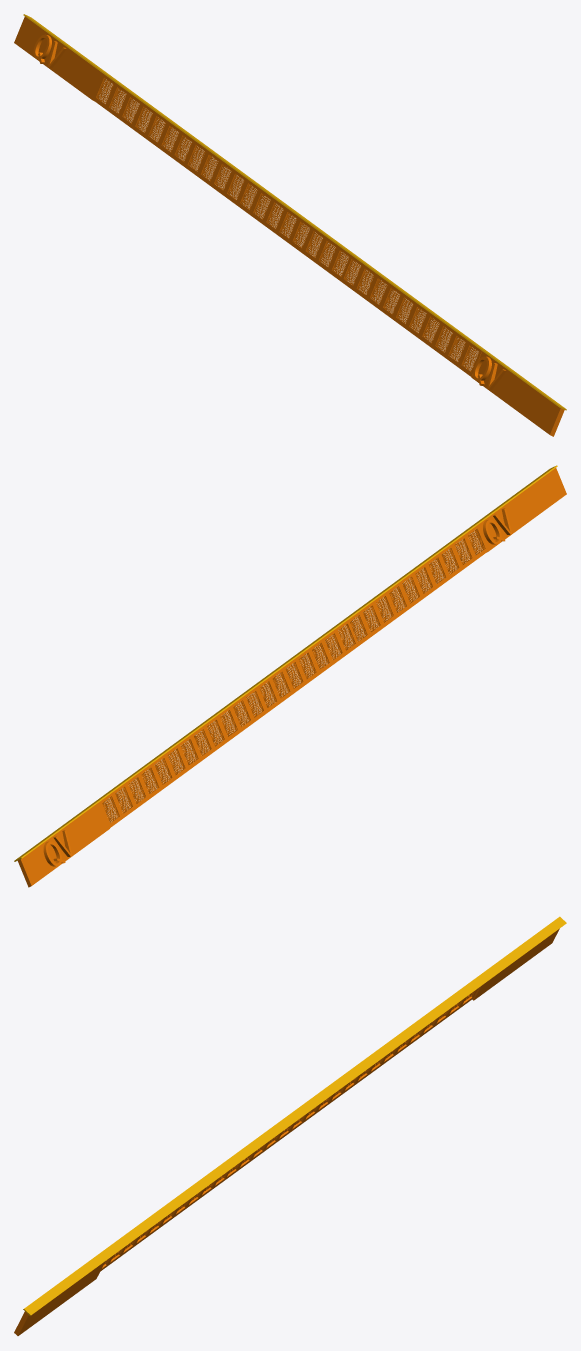
Rendered from qv railing 2.fbx.
3 renders of one model, top to bottom at view 1: azimuth 30°, elevation 25°; view 2: azimuth 150°, elevation 25°; view 3: azimuth 330°, elevation 25°, orthographic.
Visible parts, largest first — view 1: qv_railing:qvrailing, pCube1, typeMesh1, typeMesh2; view 2: qv_railing:qvrailing, pCube1, typeMesh1, typeMesh2; view 3: pCube1, qv_railing:qvrailing.
Part boxes in pixels (x1,y1,x2,y2): qv_railing:qvrailing: (14,16,564,436); pCube1: (23,14,566,410); typeMesh1: (473,356,506,389); typeMesh2: (33,34,66,67); qv_railing:qvrailing: (18,468,566,887); pCube1: (14,465,557,861); typeMesh1: (483,508,511,544); typeMesh2: (43,830,72,866); pCube1: (23,916,566,1315); qv_railing:qvrailing: (14,928,559,1335).
Size of the model in its own units: 92.8 by 122 by 4063.
